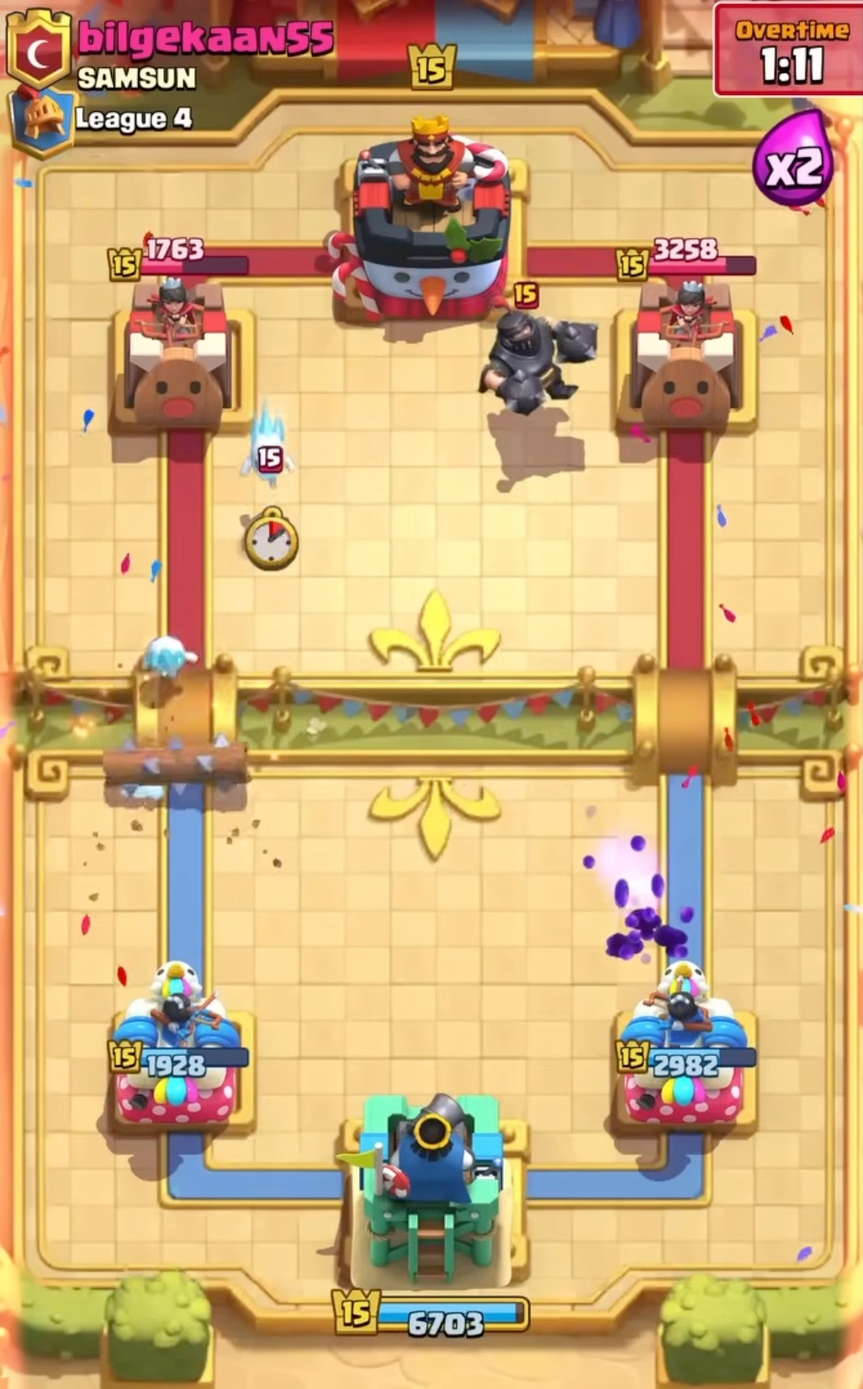ice-spirit: (132, 624, 209, 701)
log: (99, 740, 250, 791)
